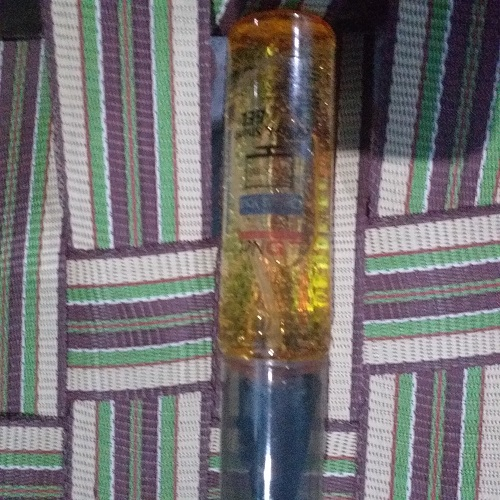spray: (215, 15, 340, 499)
